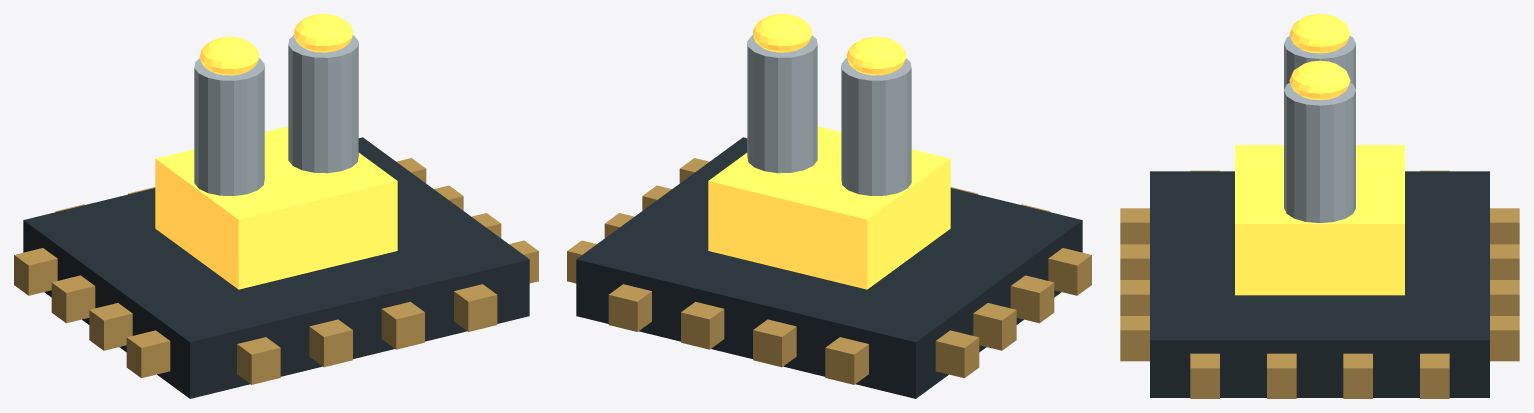
The model's file is plugin-speed-attack.glb.
The picture shows the model from 3 angles, left to right: view 1: azimuth 30°, elevation 25°; view 2: azimuth 150°, elevation 25°; view 3: azimuth 270°, elevation 25°; orthographic projection.
Visible parts, largest first — view 1: plugin circuit substrate, processor block, overdrive capacitor, overdrive capacitor.001, charged cap.001, charged cap, gold edge connector, gold edge connector.009, gold edge connector.011, gold edge connector.008, gold edge connector.010, gold edge connector.002 (+3 smaller); view 2: plugin circuit substrate, processor block, overdrive capacitor, overdrive capacitor.001, charged cap.001, charged cap, gold edge connector.003, gold edge connector.013, gold edge connector.015, gold edge connector.012, gold edge connector.014, gold edge connector.001 (+3 smaller); view 3: plugin circuit substrate, processor block, overdrive capacitor.001, charged cap, charged cap.001, overdrive capacitor, gold edge connector.004, gold edge connector.005, gold edge connector.006, gold edge connector.007, gold edge connector.011, gold edge connector.015 (+6 smaller).
Boxes of the visible parts, x1=… form: plugin circuit substrate: x1=23, y1=137, x2=529, y2=398; processor block: x1=155, y1=126, x2=397, y2=289; overdrive capacitor: x1=194, y1=58, x2=264, y2=195; overdrive capacitor.001: x1=288, y1=35, x2=358, y2=173; charged cap.001: x1=293, y1=14, x2=352, y2=52; charged cap: x1=200, y1=37, x2=259, y2=75; gold edge connector: x1=126, y1=330, x2=170, y2=378; gold edge connector.009: x1=309, y1=319, x2=352, y2=367; gold edge connector.011: x1=454, y1=284, x2=497, y2=331; gold edge connector.008: x1=237, y1=337, x2=280, y2=384; gold edge connector.010: x1=381, y1=301, x2=424, y2=349; gold edge connector.002: x1=51, y1=275, x2=95, y2=323; plugin circuit substrate: x1=576, y1=137, x2=1082, y2=398; processor block: x1=708, y1=126, x2=950, y2=289; overdrive capacitor: x1=841, y1=58, x2=911, y2=195; overdrive capacitor.001: x1=747, y1=35, x2=817, y2=173; charged cap.001: x1=753, y1=14, x2=812, y2=52; charged cap: x1=846, y1=37, x2=905, y2=75; gold edge connector.003: x1=935, y1=330, x2=979, y2=378; gold edge connector.013: x1=753, y1=319, x2=796, y2=367; gold edge connector.015: x1=608, y1=284, x2=651, y2=331; gold edge connector.012: x1=825, y1=337, x2=868, y2=384; gold edge connector.014: x1=681, y1=301, x2=724, y2=349; gold edge connector.001: x1=1010, y1=275, x2=1054, y2=323; plugin circuit substrate: x1=1150, y1=171, x2=1489, y2=397; processor block: x1=1235, y1=145, x2=1404, y2=295; overdrive capacitor.001: x1=1284, y1=82, x2=1355, y2=222; charged cap: x1=1289, y1=14, x2=1350, y2=53; charged cap.001: x1=1289, y1=60, x2=1350, y2=100; overdrive capacitor: x1=1284, y1=36, x2=1355, y2=89; gold edge connector.004: x1=1190, y1=353, x2=1219, y2=398; gold edge connector.005: x1=1267, y1=353, x2=1296, y2=398; gold edge connector.006: x1=1343, y1=353, x2=1372, y2=398; gold edge connector.007: x1=1420, y1=353, x2=1449, y2=398; gold edge connector.011: x1=1120, y1=316, x2=1149, y2=361; gold edge connector.015: x1=1490, y1=316, x2=1519, y2=361.
Size of the model in its own units: 1.1 by 0.705 by 0.94.
